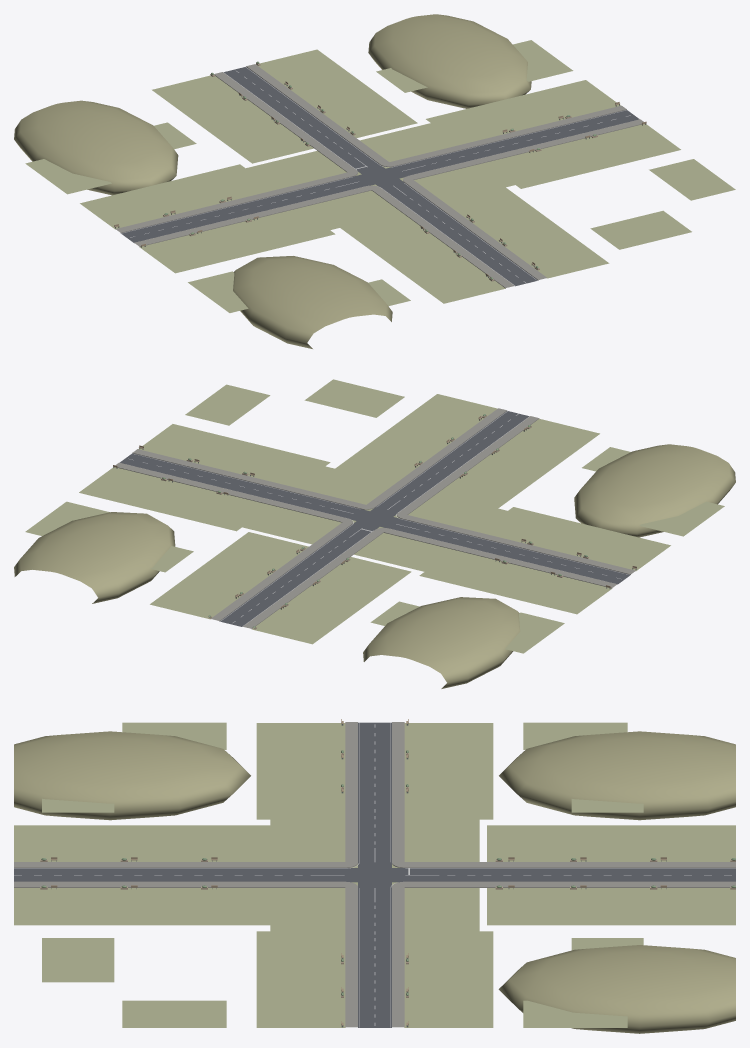
3 renders of one model, top to bottom at view 1: azimuth 30°, elevation 25°; view 2: azimuth 150°, elevation 25°; view 3: azimuth 270°, elevation 25°, orthographic. The views are drawn at different scales.
Visible parts, largest first — view 1: static; view 2: static; view 3: static.
Boxes of the visible parts, <box> form: static: <box>14,14,735,348</box>; static: <box>14,379,735,688</box>; static: <box>14,719,735,1033</box>.
Size of what is drawn, in the model's own units: 180 by 14.08 by 180.
